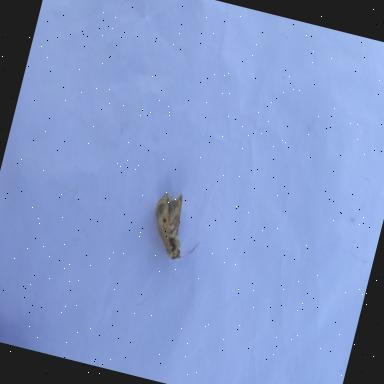abw: (138, 174, 218, 274)
